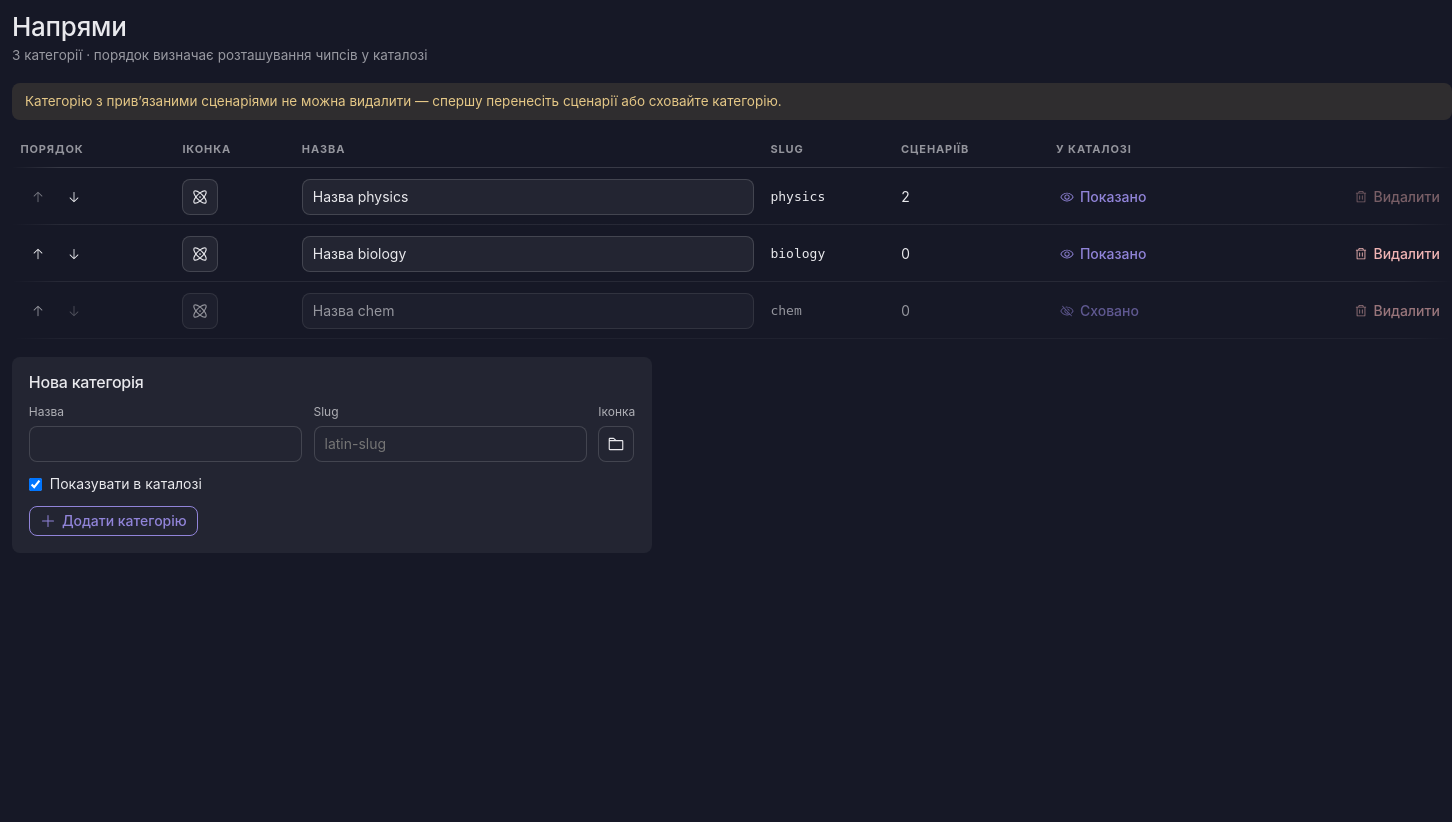
Test: CategoriesComponent › reorder (DW-7.3) › any other failure shows the message and does not re-read
Click the button named "Нижче: Назва physics" at (74, 197), box [56, 179, 92, 215]
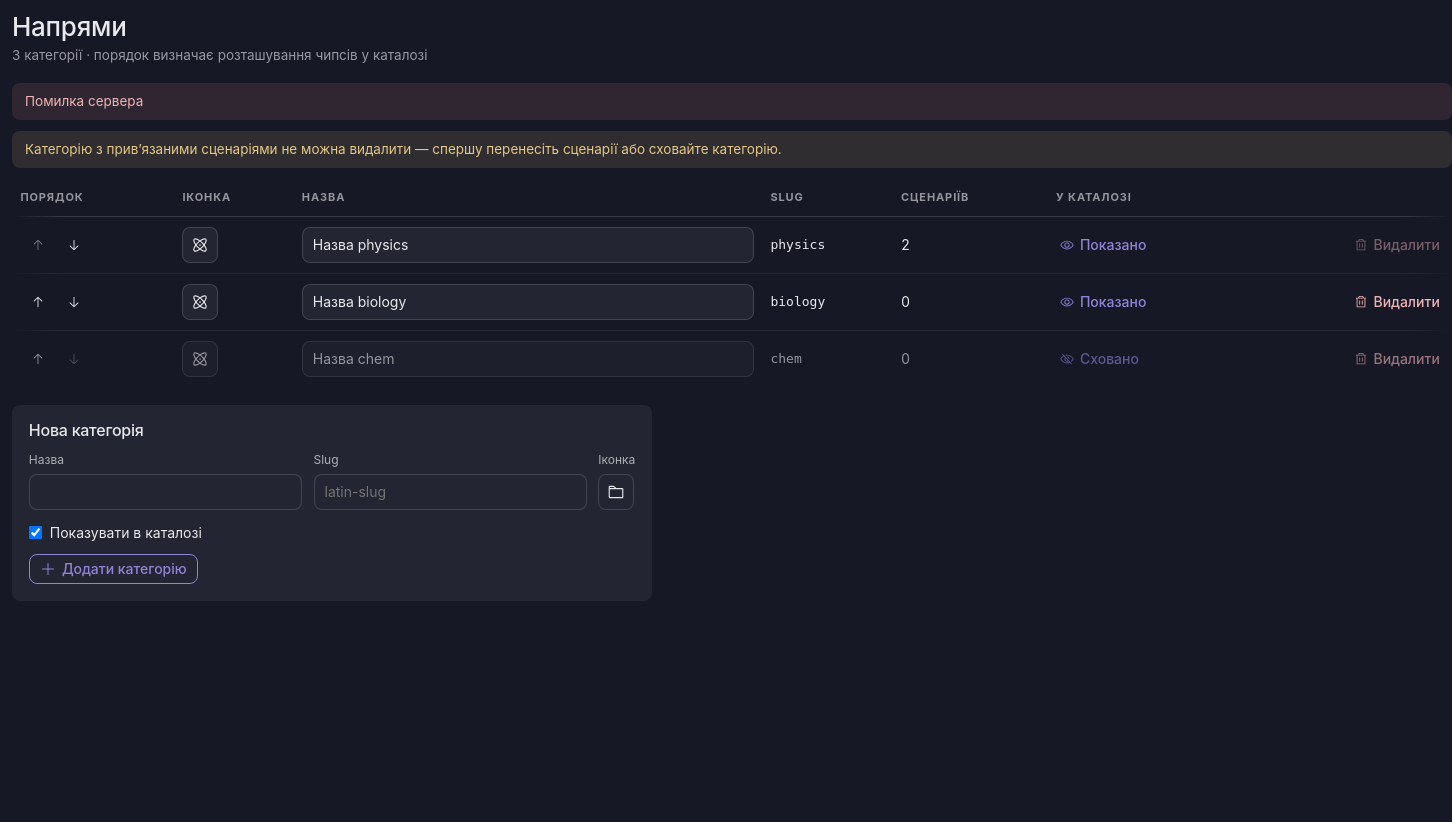
Result: the message "Помилка сервера" is shown at [12, 83, 1451, 120]
